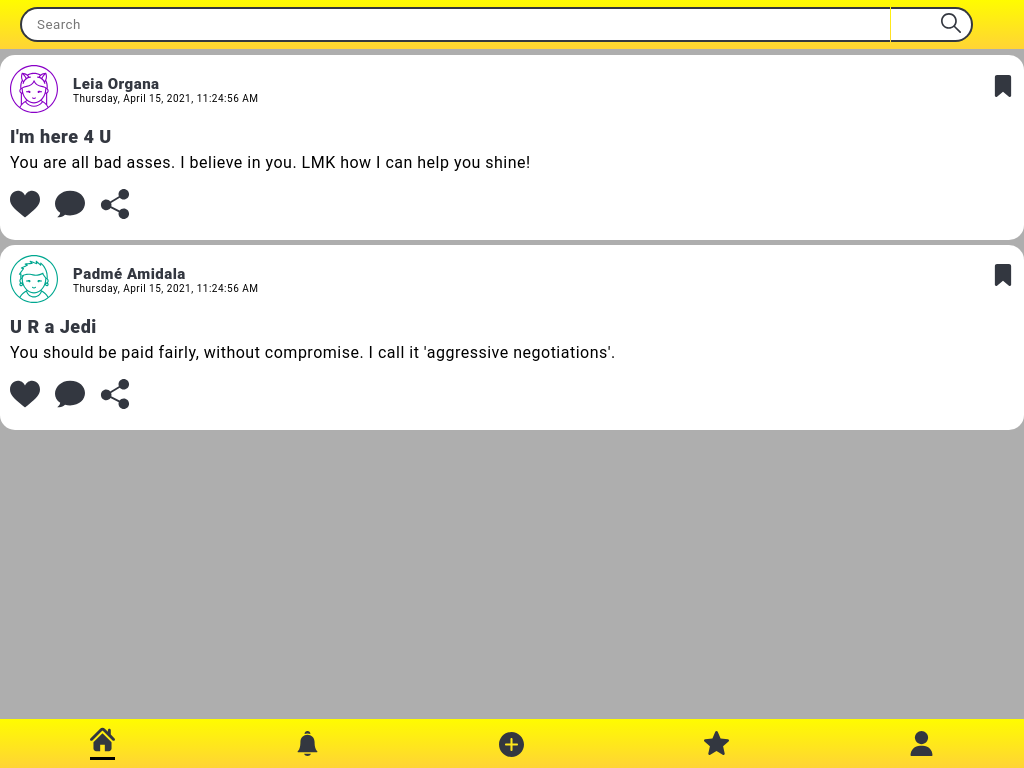
Test: Expanded Post View › Should allow user to return to the main page
Click the picture with test id "expanded-view-button" below "I'm here 4 U" at point(70, 204), box left=55, top=189, right=85, bottom=219
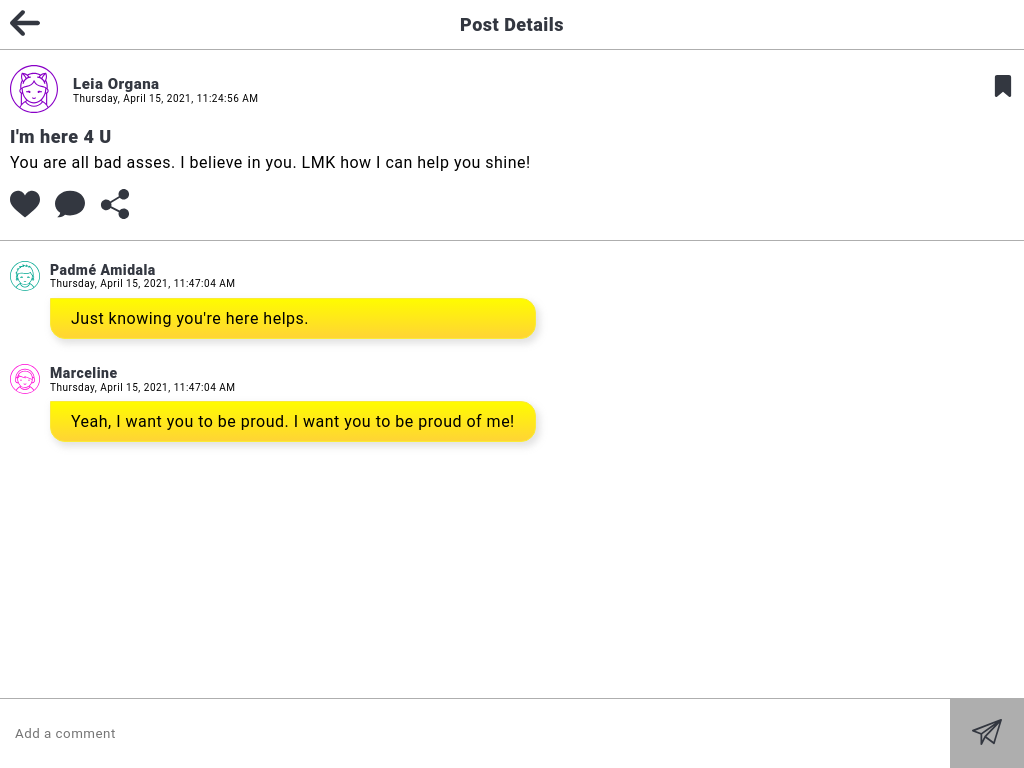
Click the button with test id "expanded-post-back-button" at point(25, 26), box left=0, top=0, right=50, bottom=51
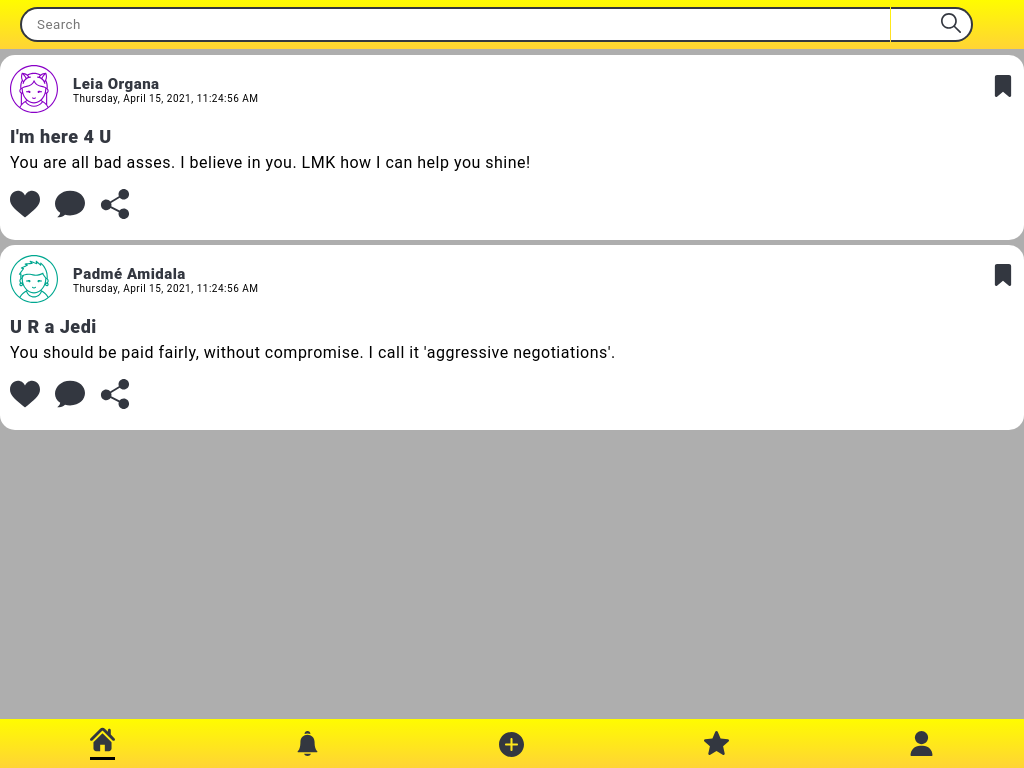
Check: the heading "U R a Jedi" is shown, box left=10, top=316, right=97, bottom=337
